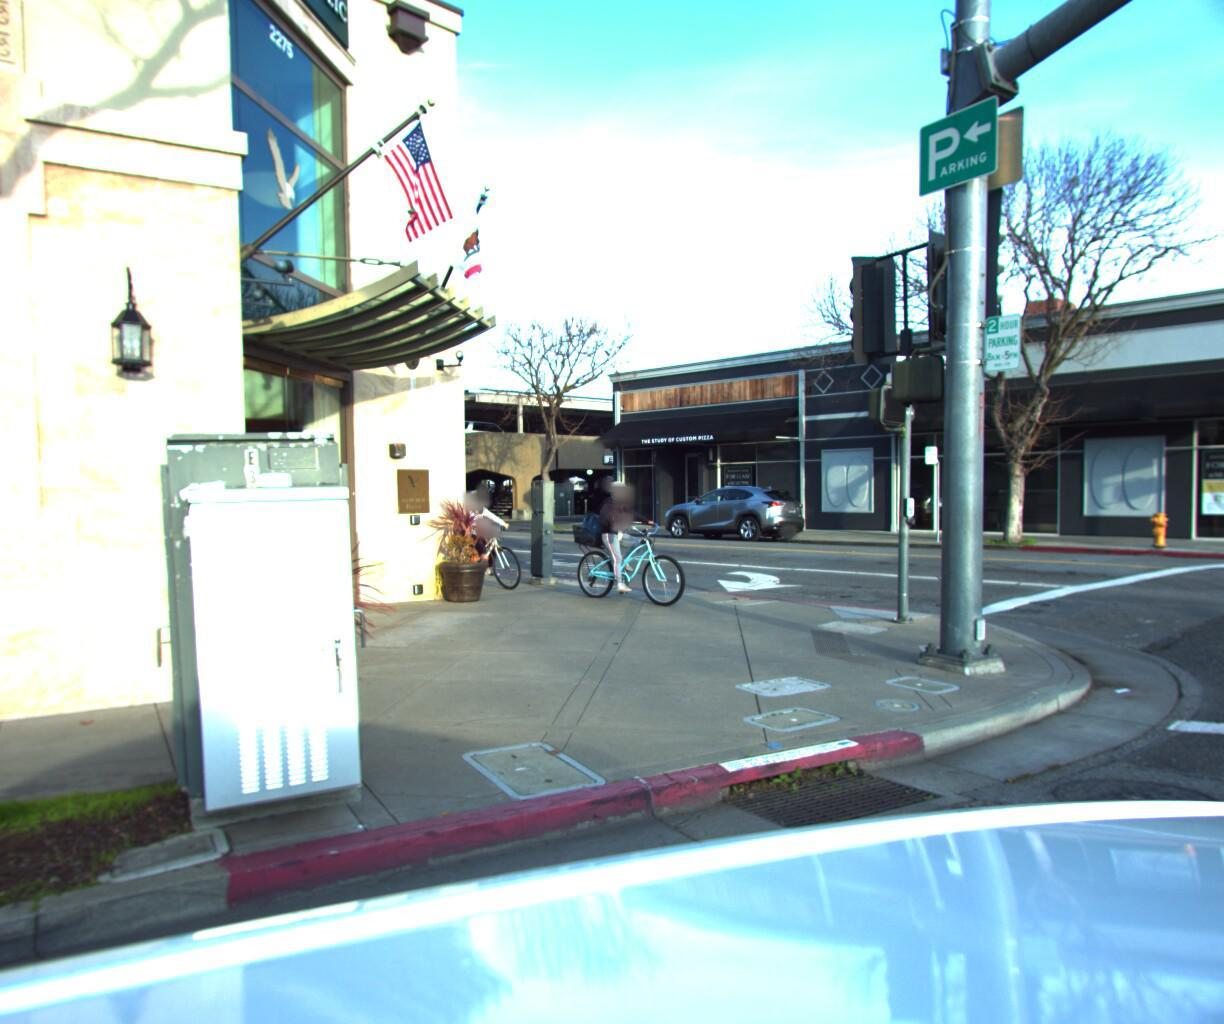bicycle: (553, 469, 703, 610), (427, 477, 550, 596)
car: (662, 477, 819, 540), (437, 414, 521, 446)
